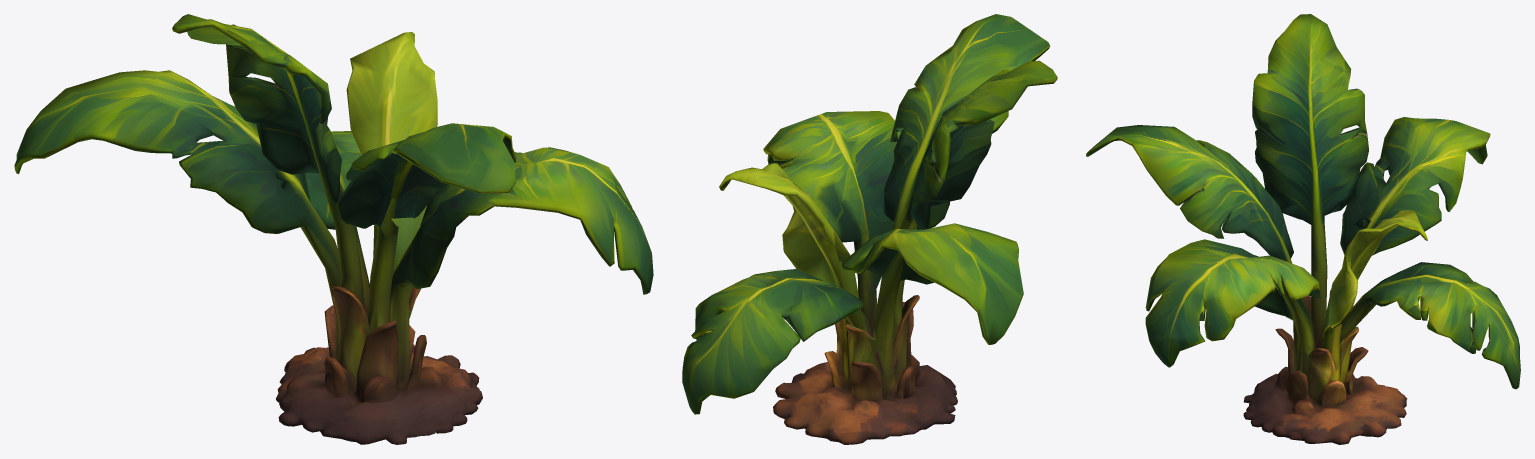
File: broadleaf-plant-v3-original.glb
3 views of the same model, side by side, from view 1: azimuth 30°, elevation 25°; view 2: azimuth 150°, elevation 25°; view 3: azimuth 270°, elevation 25° (orthographic). The views are drawn at different scales.
Parts seen in each view (by area): view 1: tripo_node_e58daf59-ea4f-4d6d-a5e6-bb7f7ce6bf37; view 2: tripo_node_e58daf59-ea4f-4d6d-a5e6-bb7f7ce6bf37; view 3: tripo_node_e58daf59-ea4f-4d6d-a5e6-bb7f7ce6bf37.
Part boxes in pixels (left/top/right/bottom): tripo_node_e58daf59-ea4f-4d6d-a5e6-bb7f7ce6bf37: left=14, top=14, right=653, bottom=444; tripo_node_e58daf59-ea4f-4d6d-a5e6-bb7f7ce6bf37: left=682, top=14, right=1057, bottom=444; tripo_node_e58daf59-ea4f-4d6d-a5e6-bb7f7ce6bf37: left=1086, top=14, right=1520, bottom=444.
Bounding box in the file's own units: 0.8865 × 0.8219 × 0.998.
1 material, 1 textured.
